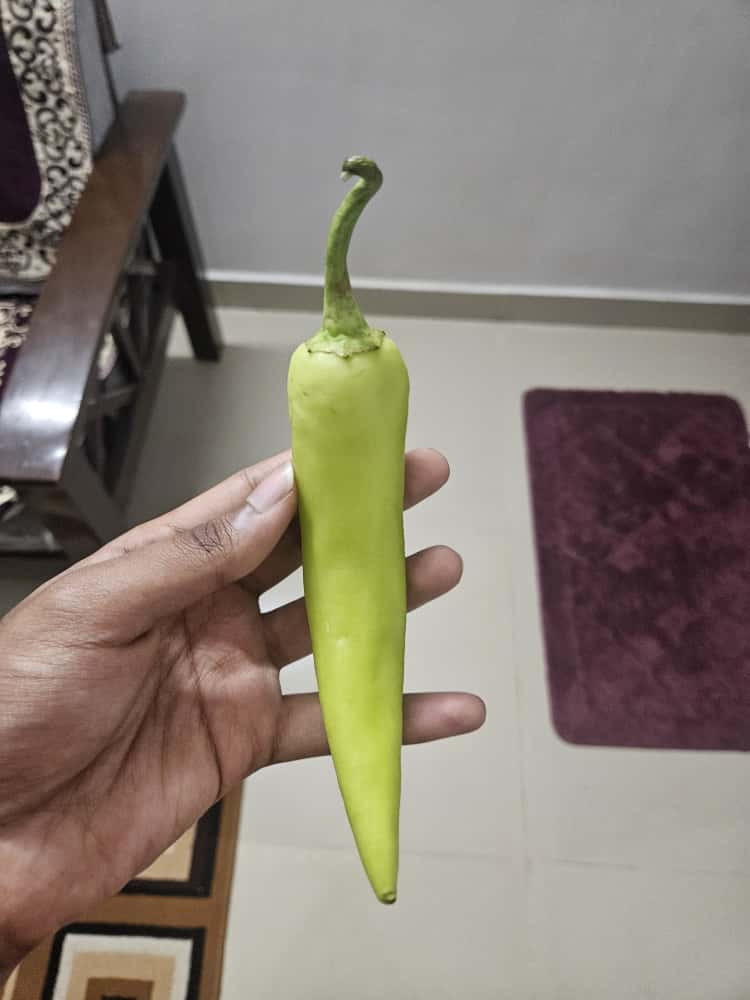wet: (260, 148, 457, 917)
